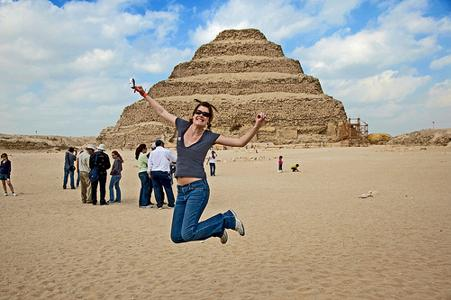person: (134, 86, 268, 245)
